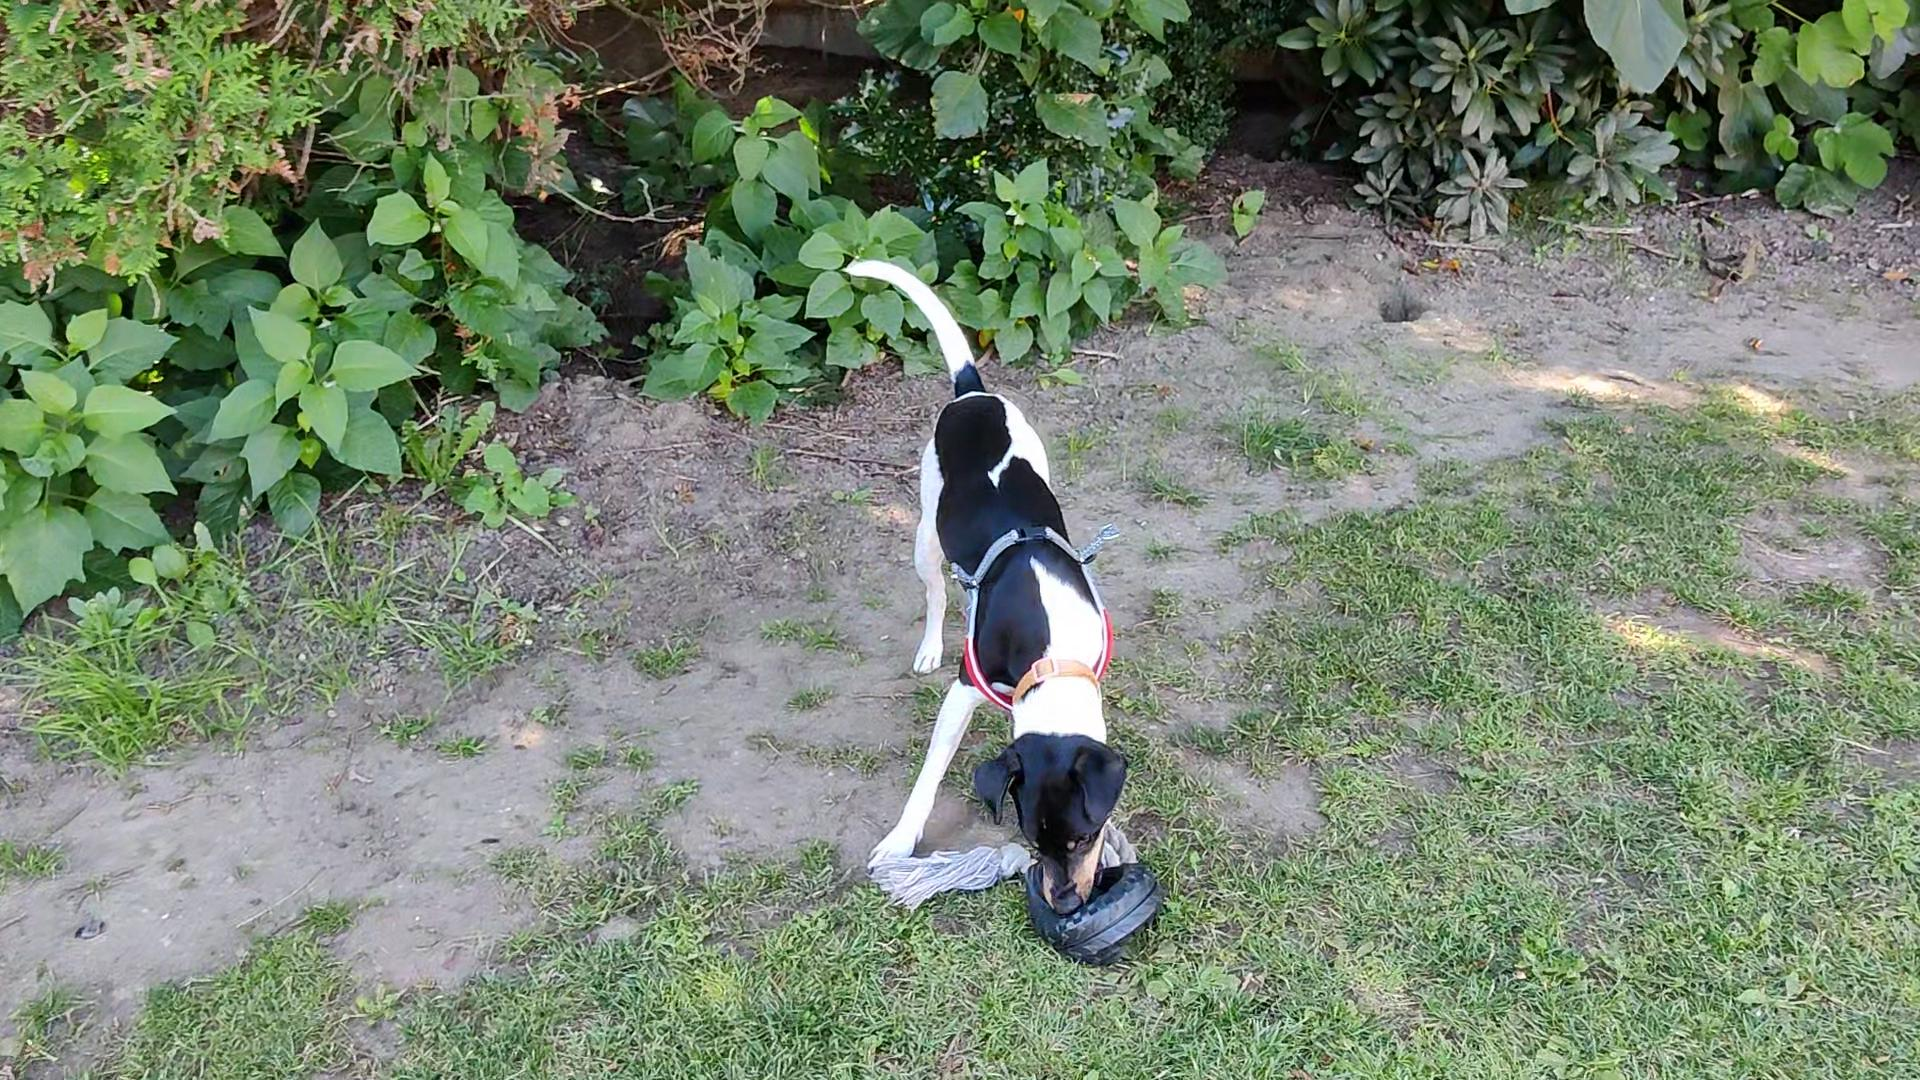Dog: (828, 255, 1145, 916)
